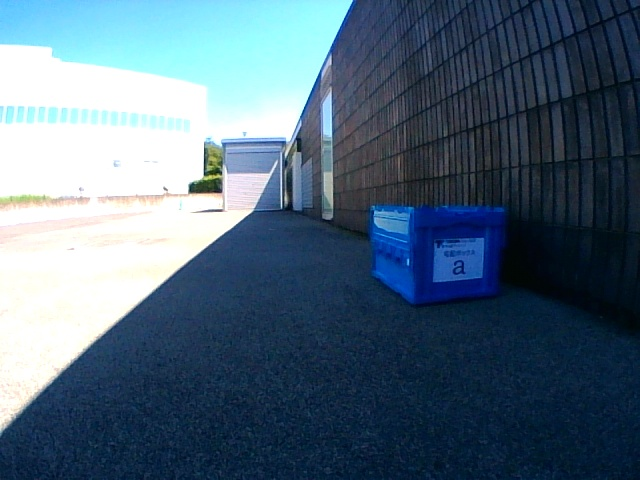blue_box: (371, 207, 507, 302)
tag_a: (435, 240, 481, 278)
